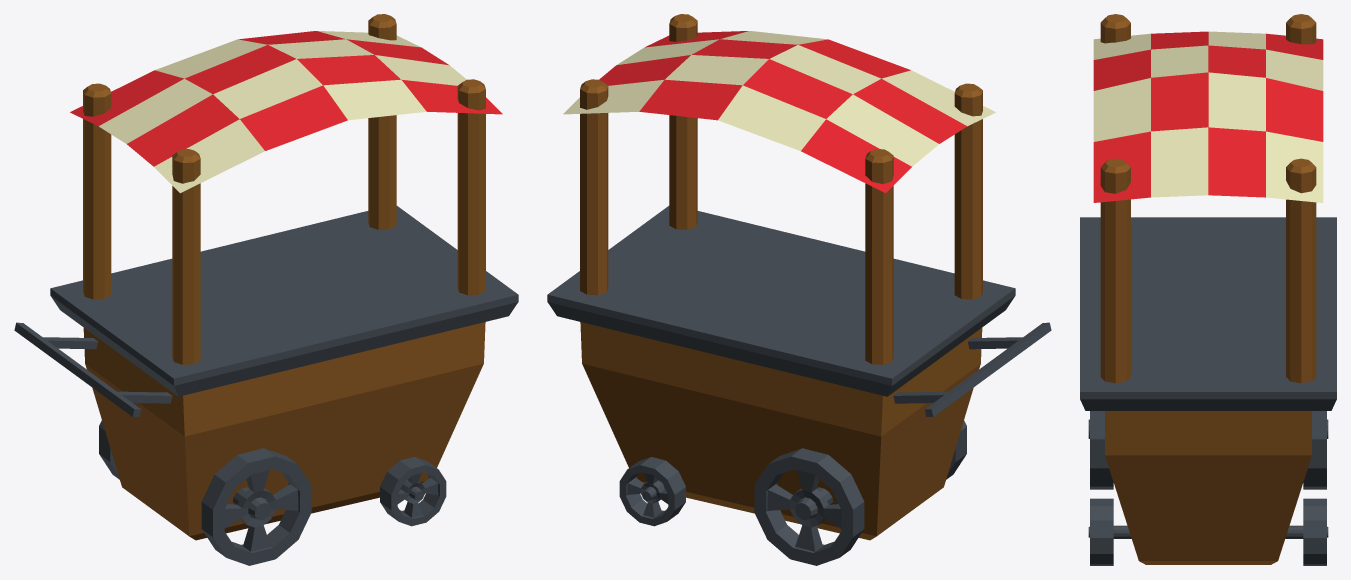
The model's file is EisWagen_GameJamAssets (1).fbx.
The picture shows the model from 3 angles, left to right: view 1: azimuth 30°, elevation 25°; view 2: azimuth 150°, elevation 25°; view 3: azimuth 270°, elevation 25°; orthographic projection. The views are drawn at different scales.
Visible parts, largest first — view 1: Cylinder.005; view 2: Cylinder.005; view 3: Cylinder.005.
Boxes of the visible parts, left/top/right/bottom form: Cylinder.005: left=14, top=14, right=518, bottom=565; Cylinder.005: left=547, top=14, right=1051, bottom=565; Cylinder.005: left=1080, top=14, right=1336, bottom=565.
Bounding box in the file's own units: 151 × 165 × 84.17.
